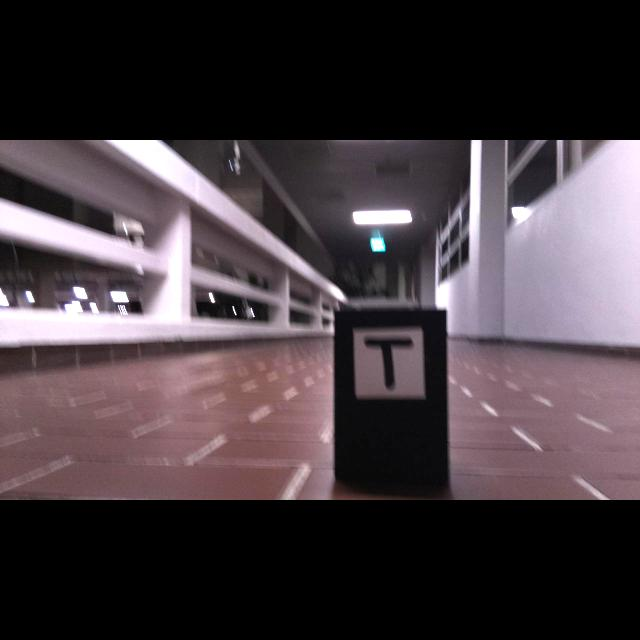T: (364, 337, 414, 392)
